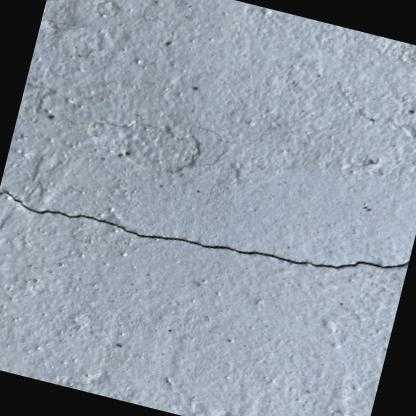crack: (0, 192, 409, 269)
